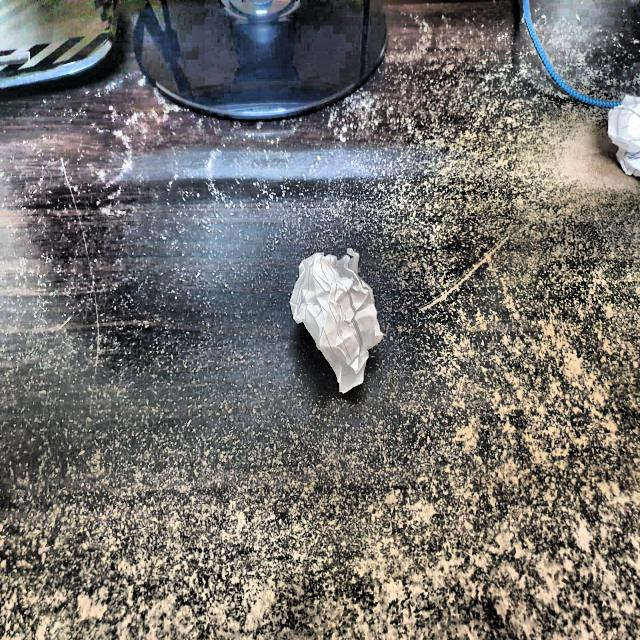Paper: (291, 246, 384, 391)
